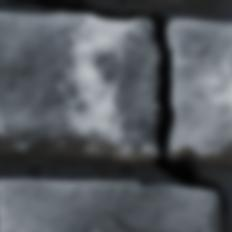brick: (0, 180, 220, 231), (121, 0, 217, 3)
broken_brick: (0, 11, 159, 162), (170, 18, 231, 163)
crack: (0, 0, 229, 231), (138, 181, 159, 187)
